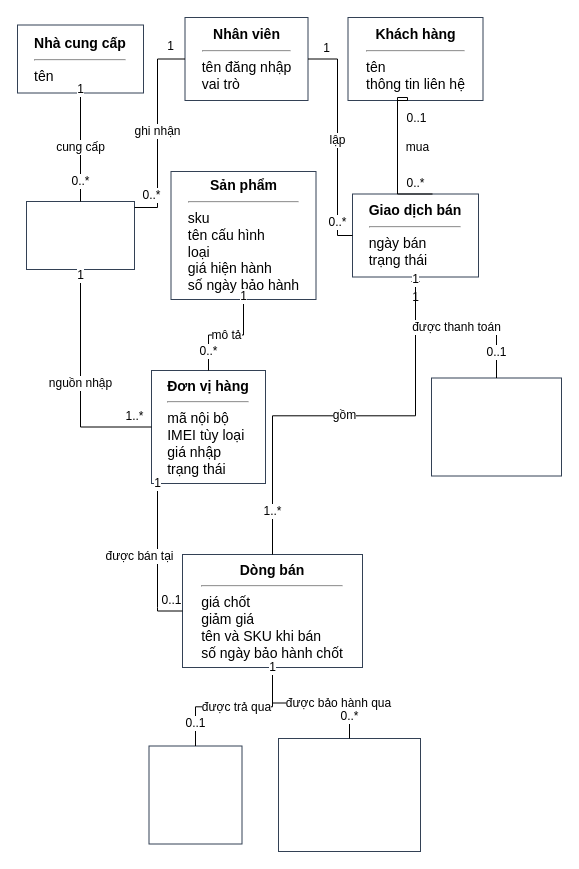
This 579x869 diagram has some shape labels left out. Here are the shapes that lost their labels. From the top down, the centre of each, then its label:
(80,235): Phiếu nhập ngày nhập
(496,426): Thanh toán số tiền thực thu tiền khách đưa tiền thừa
(195,794): Phiếu trả ngày trả lý do tiền hoàn
(349,795): Phiếu bảo hành ngày nhận trạng thái mô tả lỗi ghi chú
